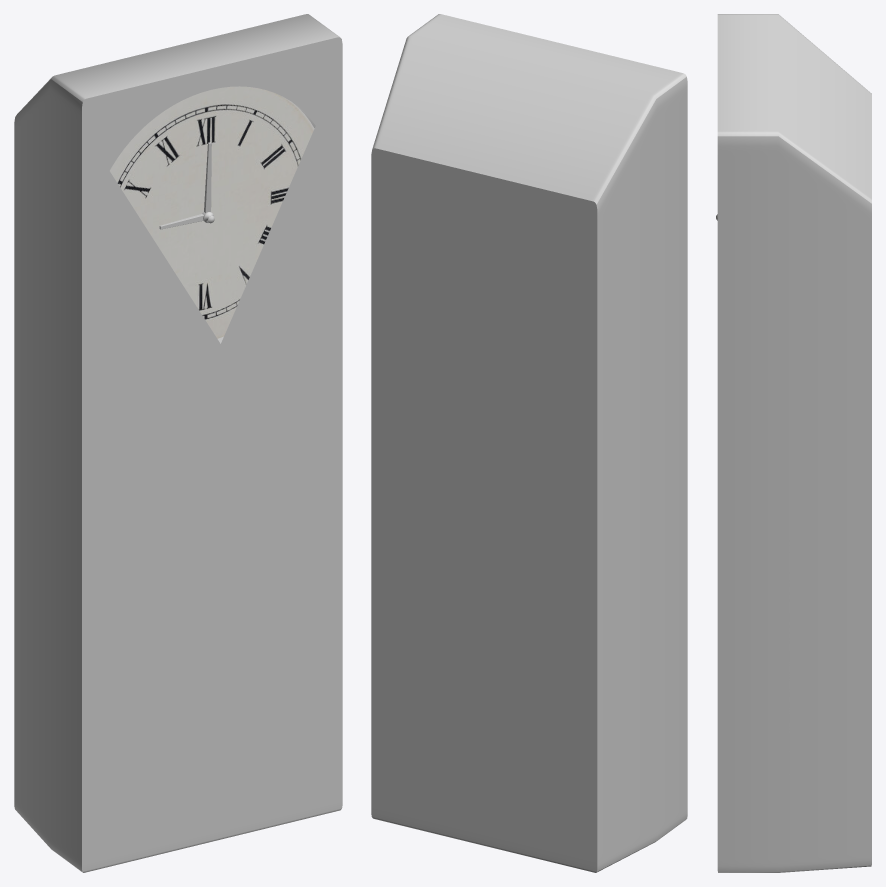
File: Clock.fbx
The picture shows the model from 3 angles, left to right: view 1: azimuth 30°, elevation 25°; view 2: azimuth 150°, elevation 25°; view 3: azimuth 270°, elevation 25°; orthographic projection. The views are drawn at different scales.
Visible parts, largest first — view 1: clock, clock the face; view 2: clock; view 3: clock.
Part boxes in pixels (<box>): clock: <box>14,14,342,872</box>; clock the face: <box>110,86,314,338</box>; clock: <box>371,14,687,872</box>; clock: <box>717,14,871,872</box>.
Size of the model in its own units: 282 by 800 by 153.
